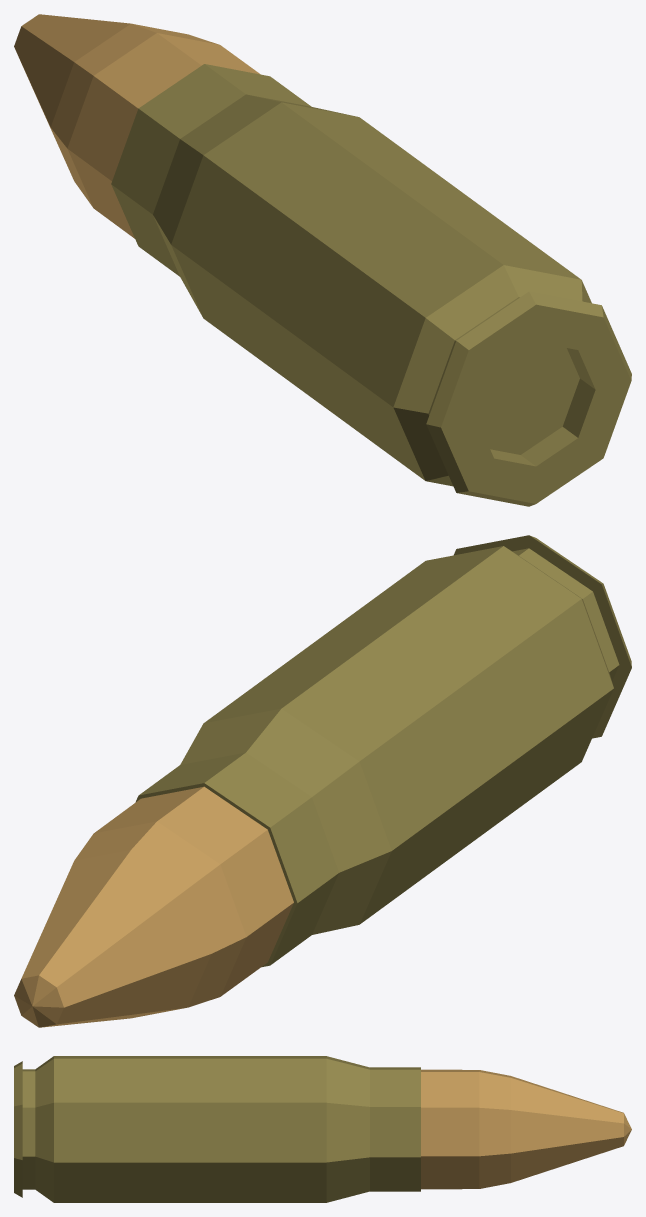
Rendered from round.glb.
3 renders of one model, top to bottom at view 1: azimuth 30°, elevation 25°; view 2: azimuth 150°, elevation 25°; view 3: azimuth 270°, elevation 25°, orthographic. The views are drawn at different scales.
Visible parts, largest first — view 1: 792x33-kurz-round; view 2: 792x33-kurz-round; view 3: 792x33-kurz-round.
Boxes of the visible parts, x1=… form: 792x33-kurz-round: x1=14, y1=14, x2=631, y2=506; 792x33-kurz-round: x1=14, y1=535, x2=631, y2=1027; 792x33-kurz-round: x1=14, y1=1056, x2=631, y2=1202.
Bounding box in the file's own units: 0.0121 × 0.0121 × 0.048.
